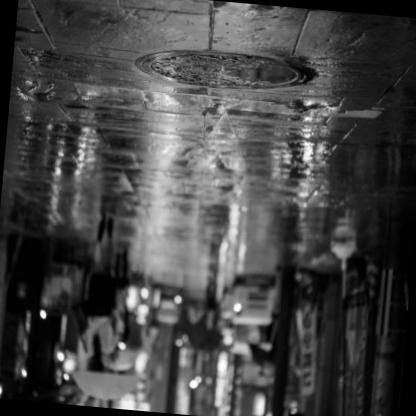manholes: (110, 22, 330, 129)
